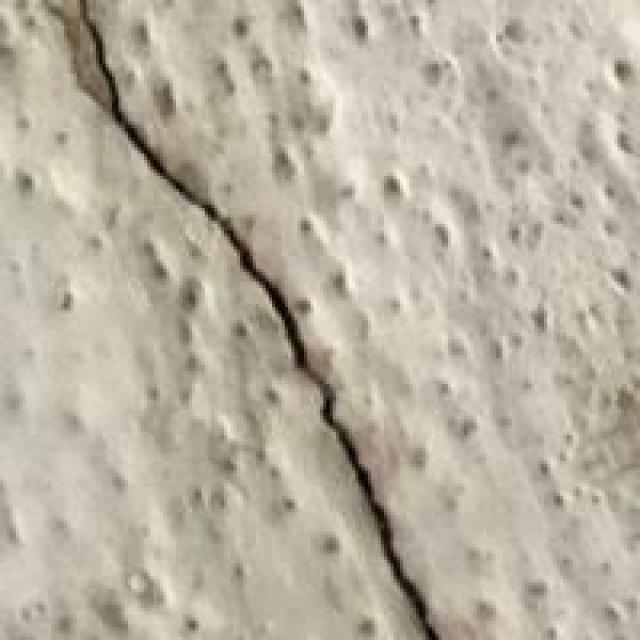Crack: (58, 0, 464, 637)
